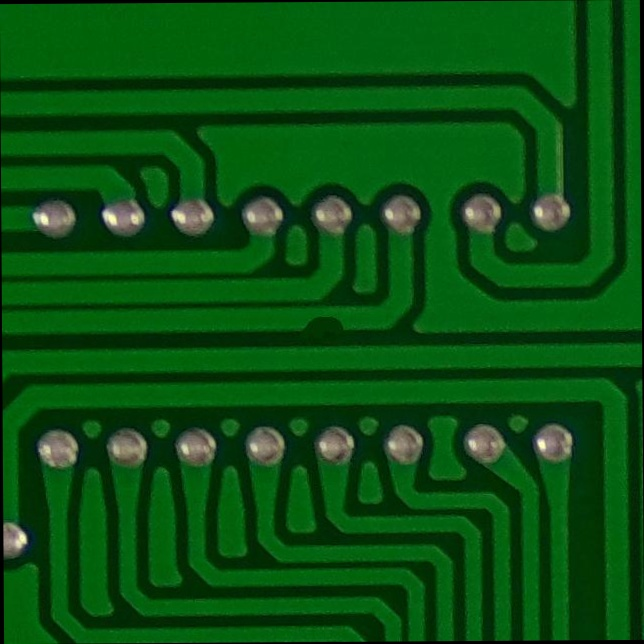mouse_bite: (293, 304, 351, 341)
